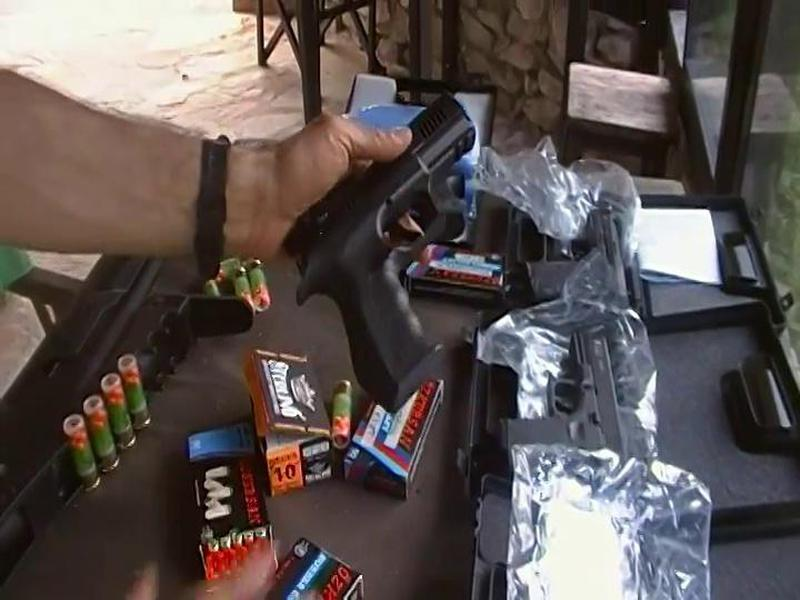Pistola: (245, 84, 491, 426)
